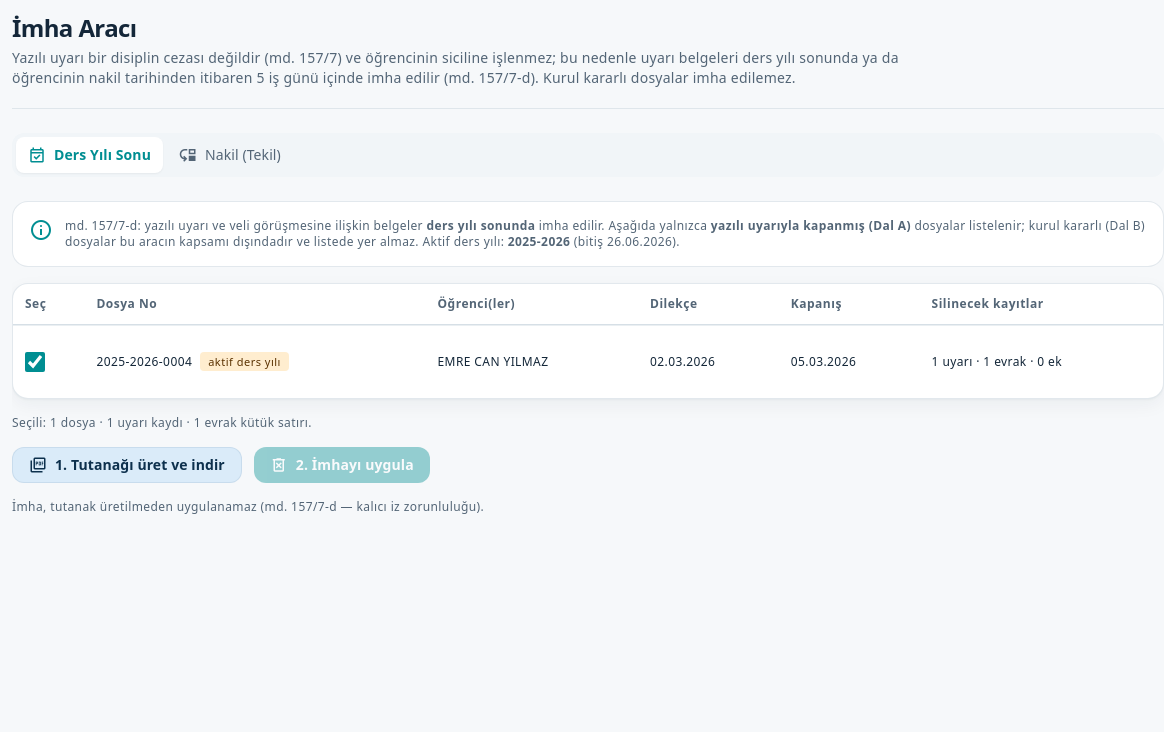
Test: ImhaPage — md. 157/7-d zamanlaması (kullanıcı kararı A) › nakil etmemiş öğrencide tekil imha tutanağı üretilemez
Expected: the text "2025-2026-0004" is shown, [96,353,192,370]
Click the tab "Nakil (Tekil)" at x=230, y=155, box [167,137,293,173]
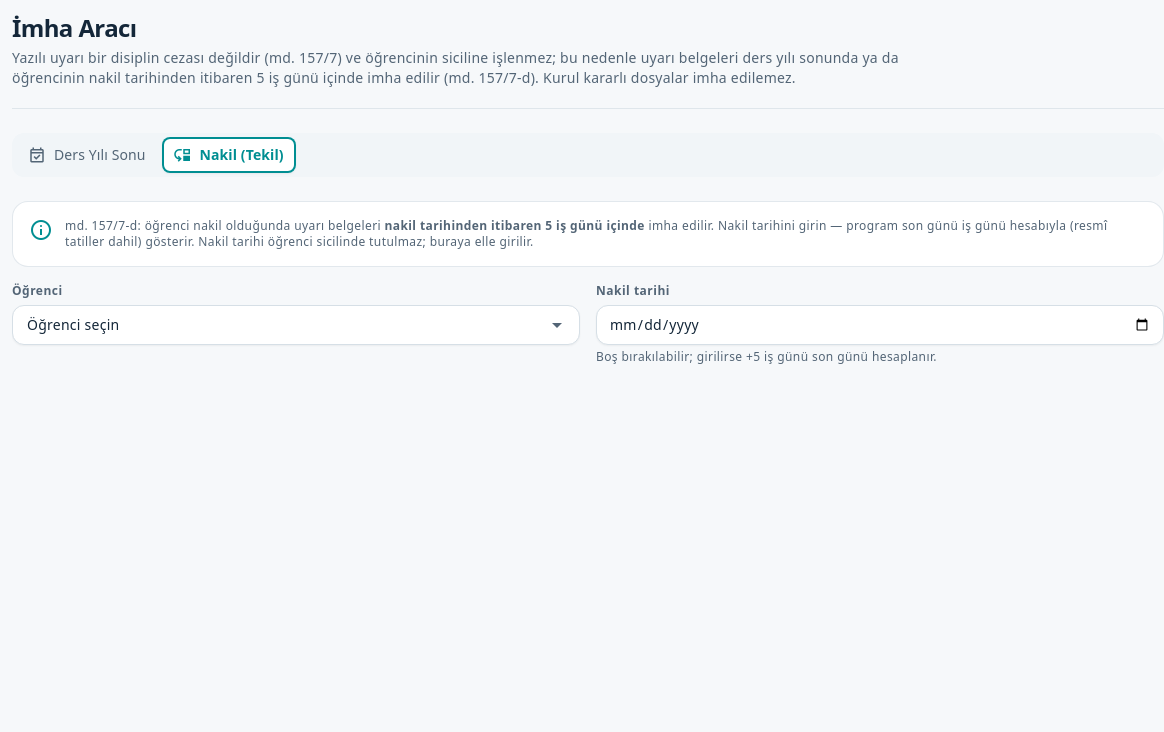
Select "EMRE CAN YILMAZ — 10/A (1 uyarı)" in the dropdown labelled "Öğrenci" at x=284, y=325, box [23,315,545,335]
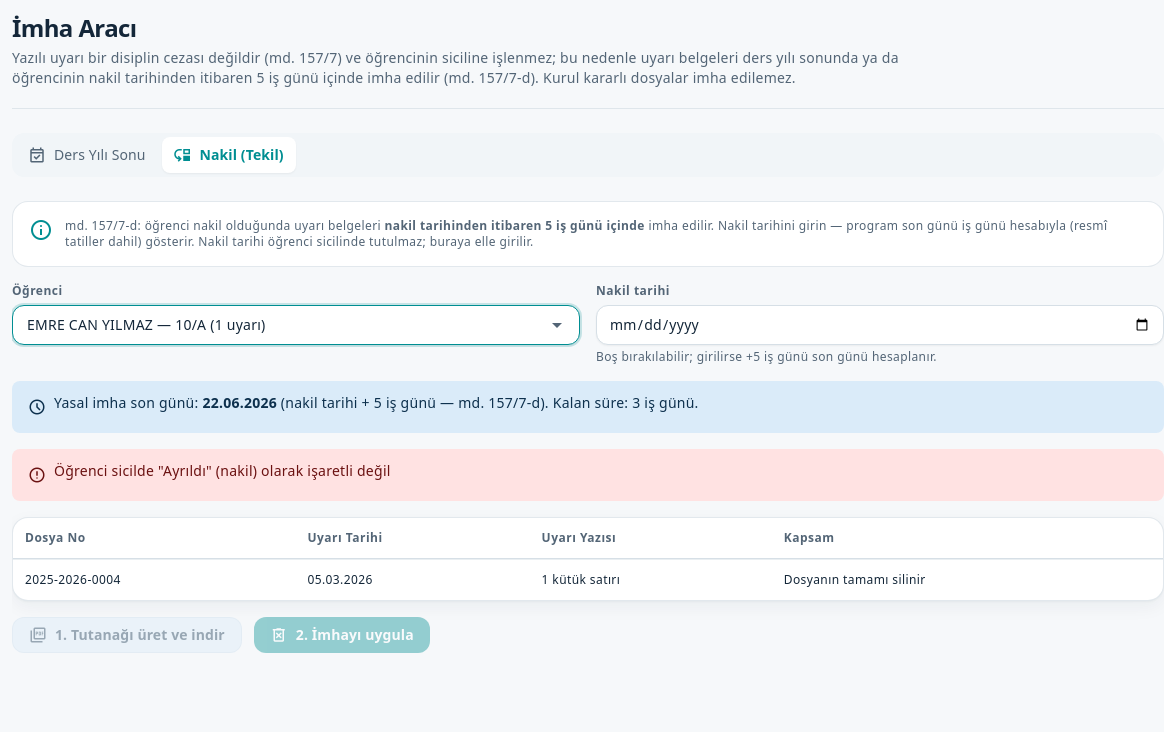
Expected: the text "Öğrenci sicilde \"Ayrıldı\" (nakil) olarak işaretli değil" is shown, [54,461,391,481]
Expected: the button "1. Tutanağı üret ve indir" is disabled, [12,617,242,653]
